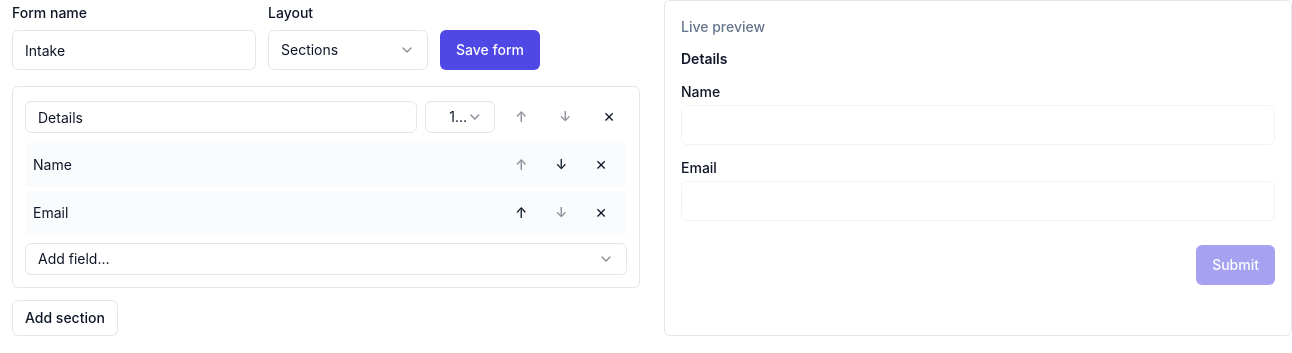
Test: FormBuilder › switches the layout type
Click the dropdown named "Layout" at (348,50), box [268,30,428,70]
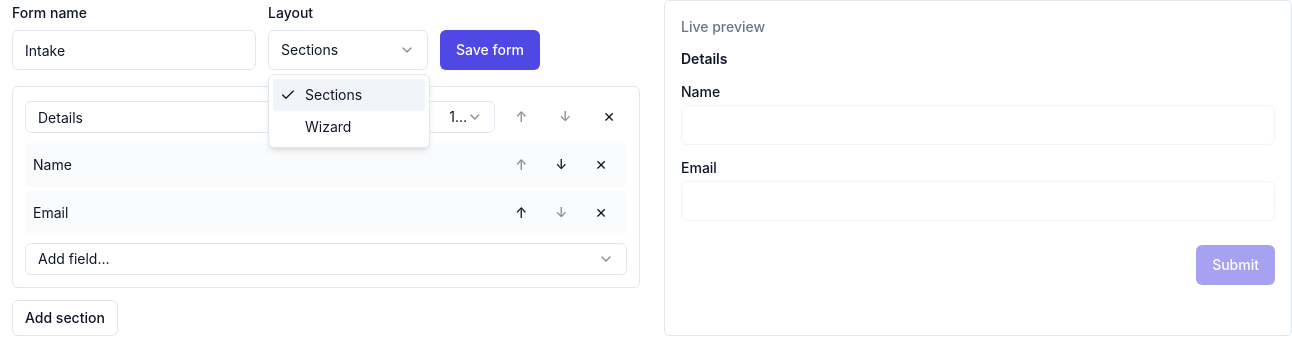
Click the option "Wizard" at (328,126), box [305,118,351,135]
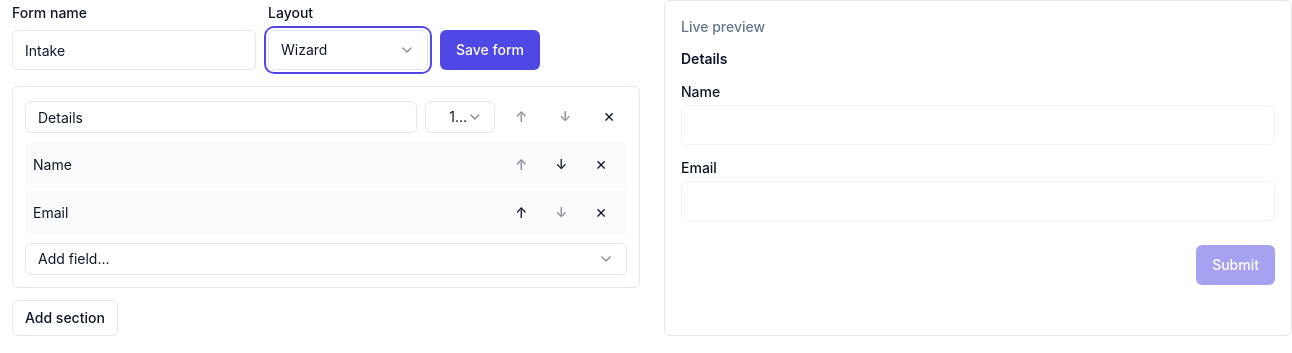
Expected: the dropdown named "Layout" reads "Wizard", [268,30,428,70]
